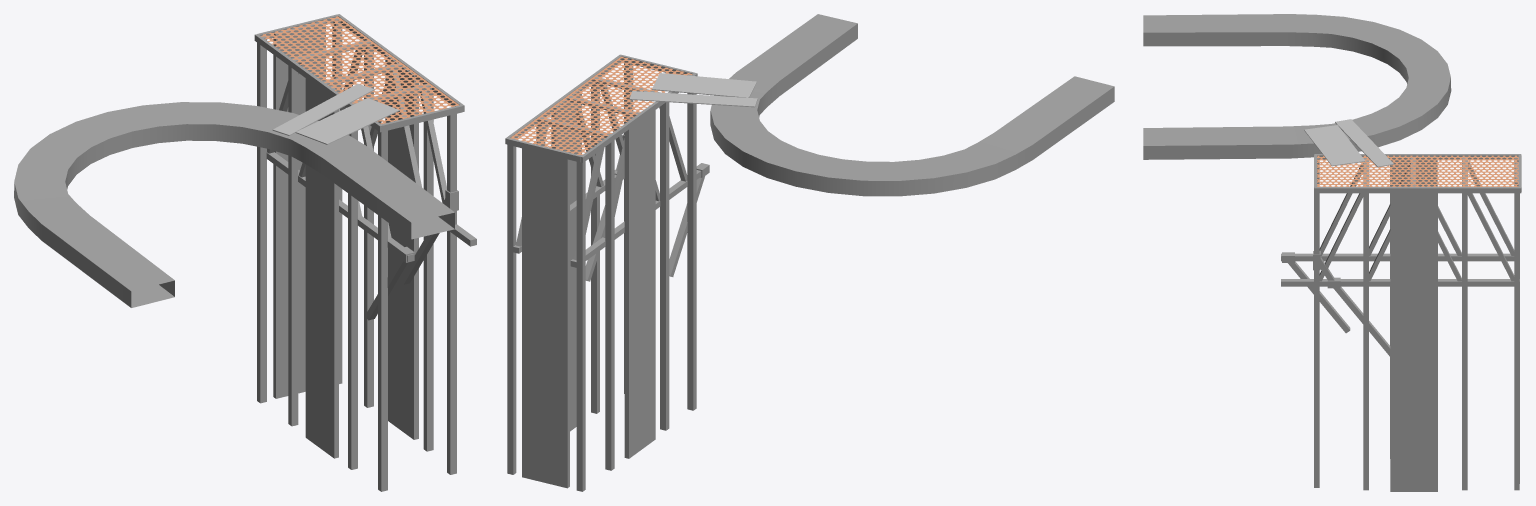
File: Catwalks.fbx
The picture shows the model from 3 angles, left to right: view 1: azimuth 30°, elevation 25°; view 2: azimuth 150°, elevation 25°; view 3: azimuth 270°, elevation 25°; orthographic projection. The views are drawn at different scales.
Parts seen in each view (by area): view 1: horse_shoe, leg20, leg2, leg21, leg, leg9, leg4, leg1, leg5, leg6, leg7, bridge (+11 smaller); view 2: horse_shoe, leg2, leg20, leg, leg1, leg9, leg7, leg3, leg5, leg21, leg6, bridge (+5 smaller); view 3: horse_shoe, leg21, leg, leg3, leg6, leg8, leg4, bridge, leg28, leg10, leg11, bridge1 (+8 smaller).
Boxes of the visible parts, x1,y1,x2,y2 form: horse_shoe: (14,102,454,307); leg20: (305,73,338,458); leg2: (273,21,325,398); leg21: (385,54,418,439); leg: (261,16,459,124); leg9: (288,60,298,426); leg4: (447,114,456,474); leg1: (257,36,266,403); leg5: (378,127,387,491); leg6: (423,86,433,451); leg7: (348,130,357,469); bridge: (295,98,399,144); horse_shoe: (710,14,1114,196); leg2: (522,141,569,488); leg20: (624,106,655,458); leg: (510,56,692,154); leg1: (576,154,585,491); leg9: (605,140,614,470); leg7: (660,102,669,430); leg3: (507,138,516,474); leg5: (687,74,696,410); leg21: (551,89,581,431); leg6: (591,82,599,413); bridge: (652,73,756,97); horse_shoe: (1143,14,1451,159); leg21: (1390,190,1437,491); leg: (1317,155,1518,186); leg3: (1514,193,1519,490); leg6: (1363,193,1368,490); leg8: (1462,193,1467,490); leg4: (1314,185,1319,487); bridge: (1304,125,1365,166); leg28: (1314,187,1521,193); leg10: (1281,279,1519,286); leg11: (1281,253,1514,261); bridge1: (1335,119,1393,167).
Size of the model in its own units: 2575 by 2073 by 2334.
